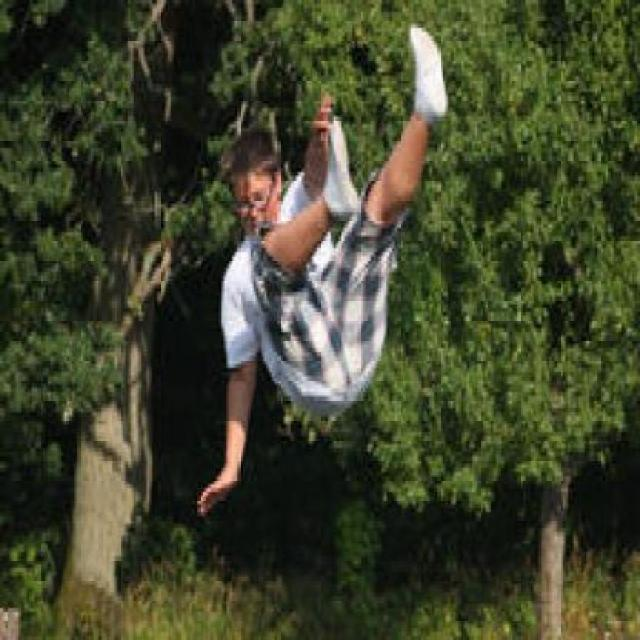fall: (198, 24, 451, 516)
